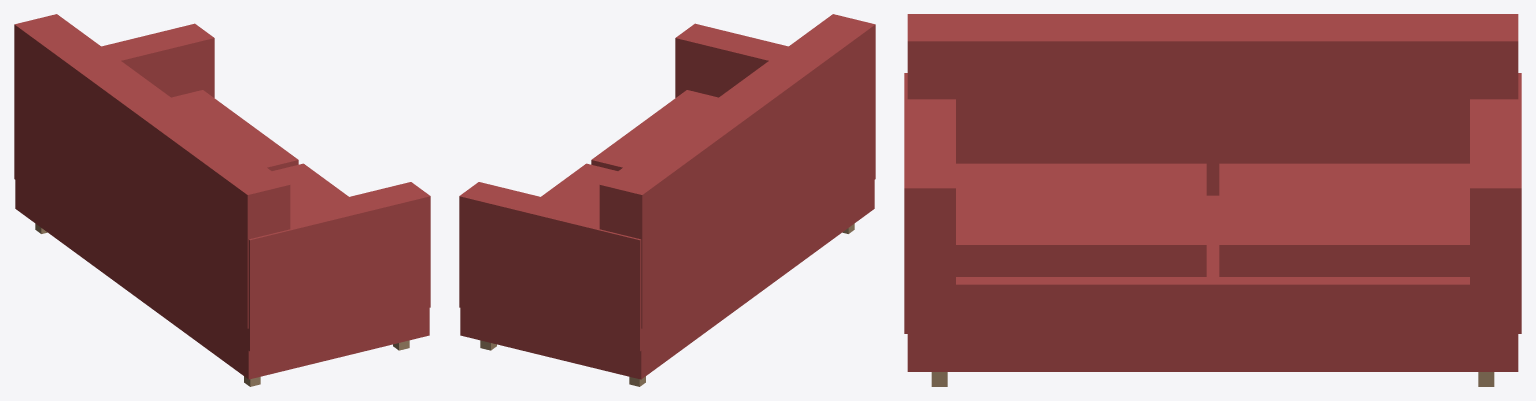
File: SM_Prop_Sofa.glb
The picture shows the model from 3 angles, left to right: view 1: azimuth 30°, elevation 25°; view 2: azimuth 150°, elevation 25°; view 3: azimuth 270°, elevation 25°; orthographic projection. The views are drawn at different scales.
Parts seen in each view (by area): view 1: SM_Prop_Sofa; view 2: SM_Prop_Sofa; view 3: SM_Prop_Sofa.
Part boxes in pixels (x1=…): SM_Prop_Sofa: x1=14, y1=14, x2=430, y2=386; SM_Prop_Sofa: x1=459, y1=14, x2=875, y2=386; SM_Prop_Sofa: x1=904, y1=14, x2=1521, y2=386.
Bounding box in the file's own units: 0.855 × 0.905 × 1.92.
